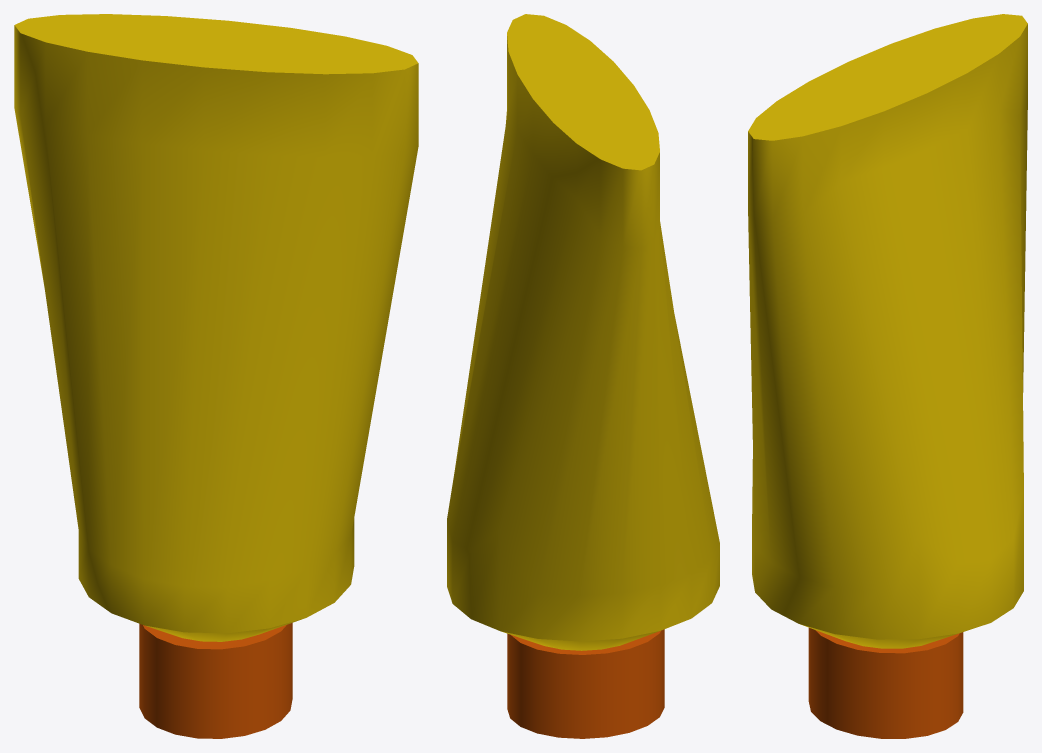
The model's file is Product3.fbx.
The picture shows the model from 3 angles, left to right: view 1: azimuth 30°, elevation 25°; view 2: azimuth 150°, elevation 25°; view 3: azimuth 270°, elevation 25°; orthographic projection. The views are drawn at different scales.
Visible parts, largest first — view 1: pCylinder5; view 2: pCylinder5; view 3: pCylinder5.
Boxes of the visible parts, box(x1,y1,x2,y2) form: pCylinder5: box(14, 14, 418, 738); pCylinder5: box(447, 14, 719, 738); pCylinder5: box(748, 14, 1027, 738).
Size of the model in its own units: 0.0985 by 0.2282 by 0.0919.
